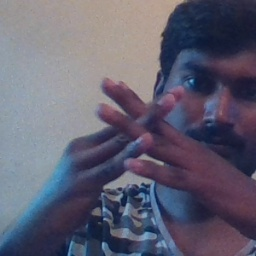W: (81, 70, 204, 203)
